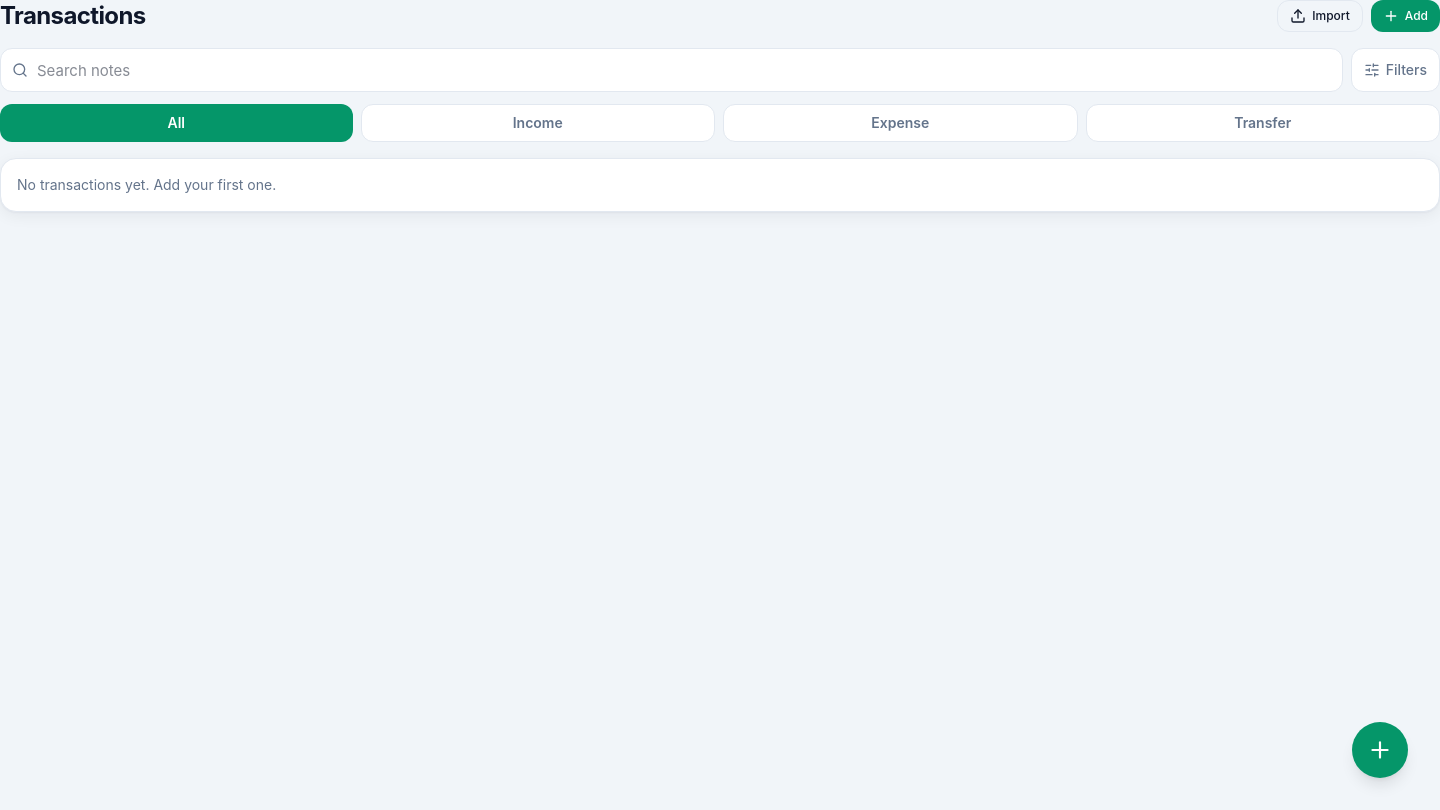
Transactions page › opens quick add from Add inside the app shell
The image size is (1440, 810).
Expected: the text "No transactions yet. Add your first one." is shown, [17,176,276,193]
Click the button "Add": [1405, 16] box [1371,0,1439,32]
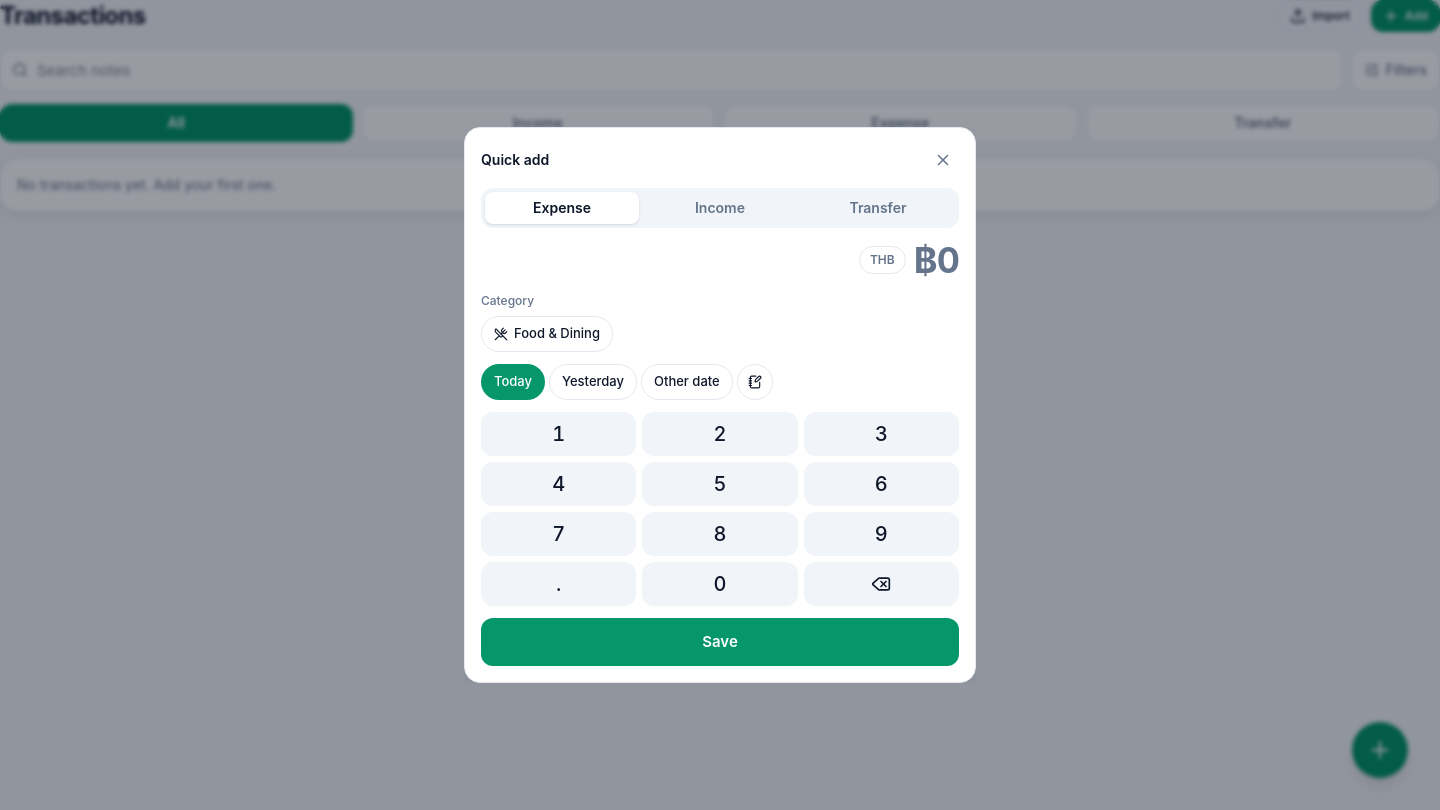
Expected: the dialog "Quick add" is shown, [464,127,976,683]
